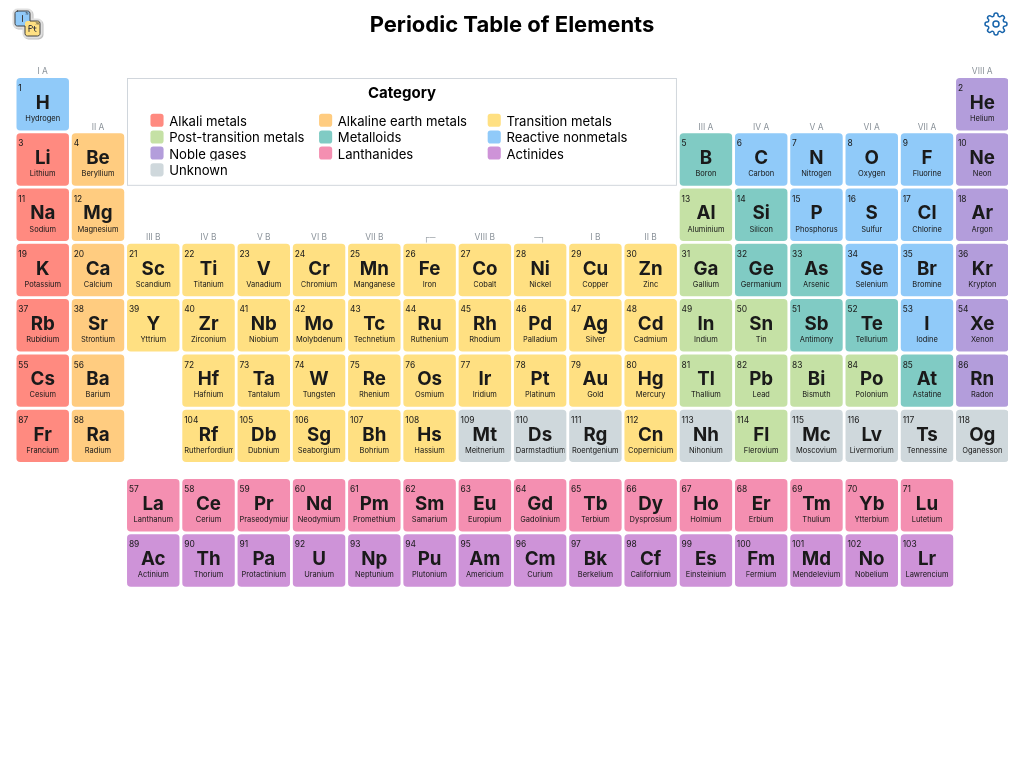
Test: AppLayout › opens the settings panel when the Settings_Button is activated (3.1)
Click the button named "Open settings" at (996, 24), box left=980, top=8, right=1012, bottom=40
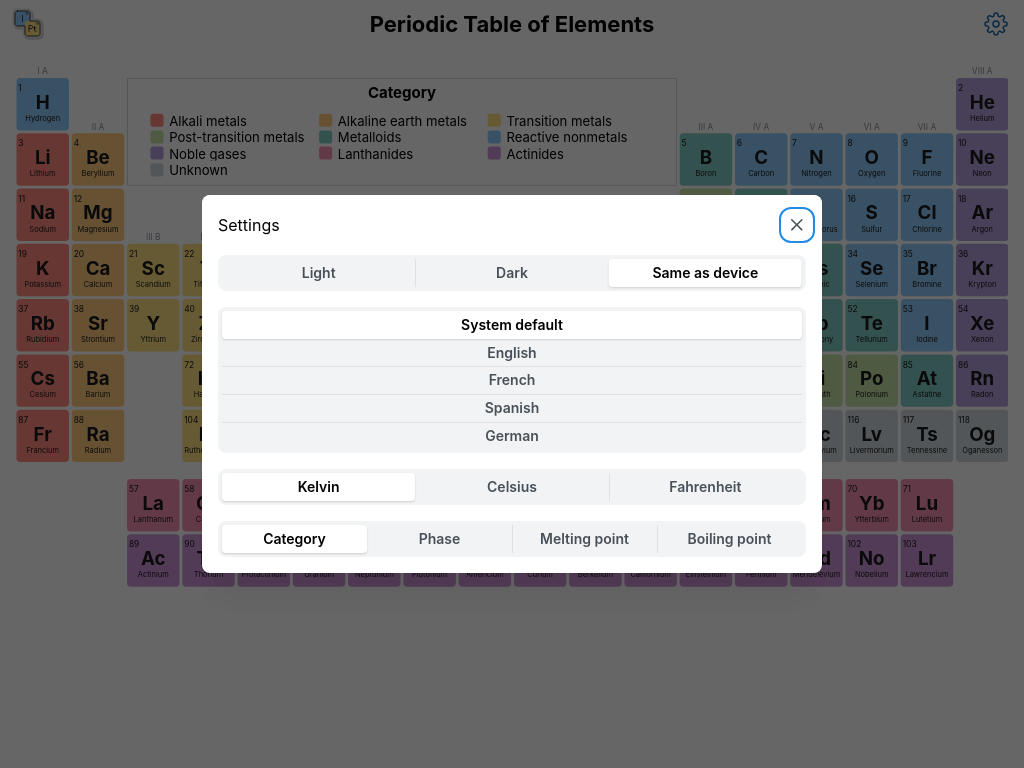
Now the heading "Settings" is shown, box left=218, top=217, right=280, bottom=233
